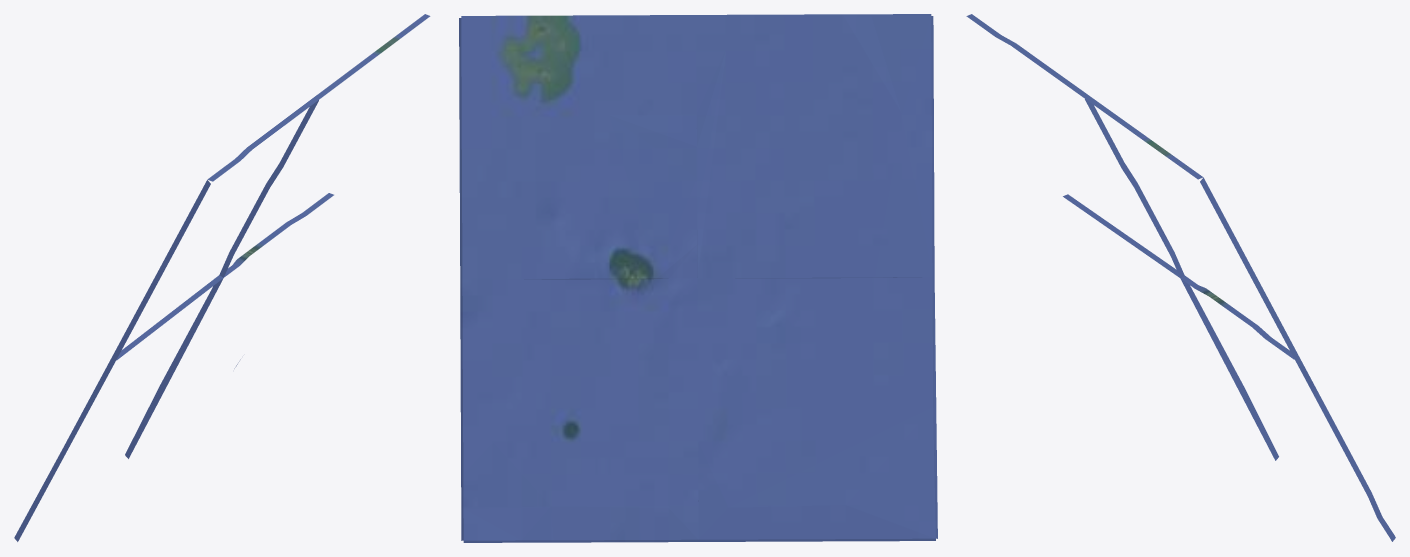
The picture shows the model from 3 angles, left to right: view 1: azimuth 30°, elevation 25°; view 2: azimuth 150°, elevation 25°; view 3: azimuth 270°, elevation 25°; orthographic projection. The views are drawn at different scales.
Bounding box in the file's own units: 79084 × 70951 × 66855.
1 material, 1 textured.
